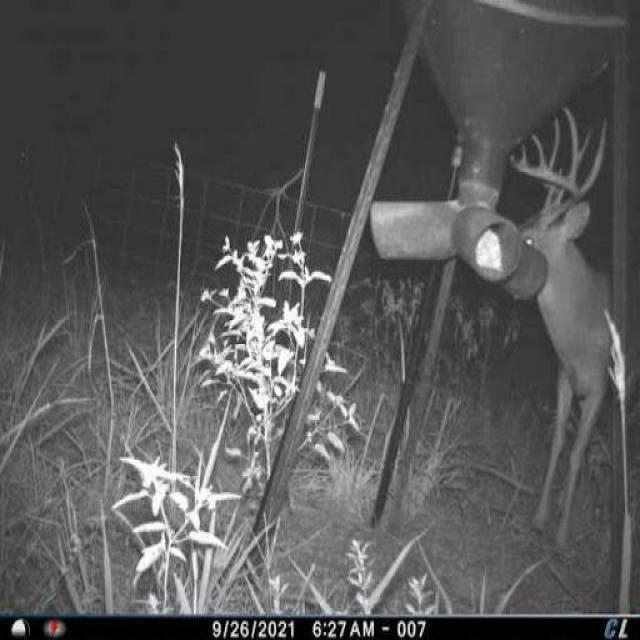deer: (504, 103, 640, 568)
